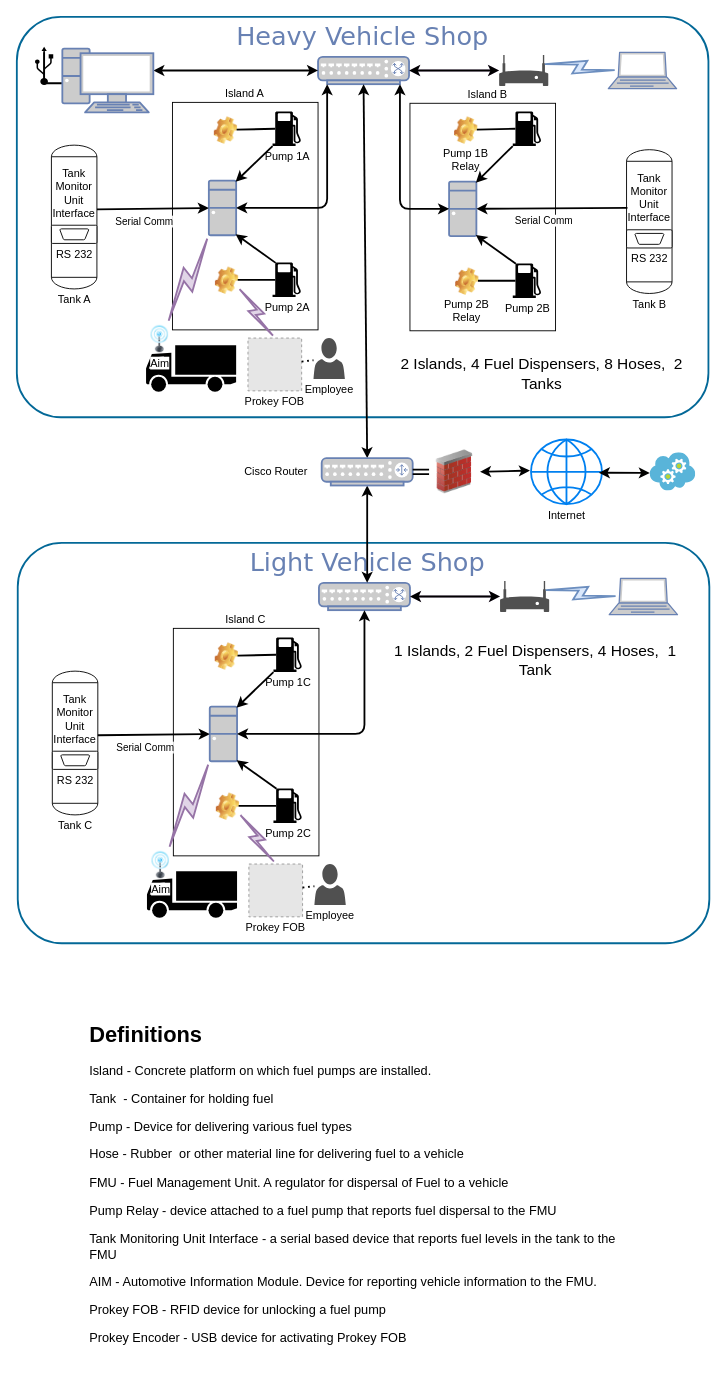
Some shapes in this 725 by 1387 pixel diagram are drawn without their labels. Grey dashed boxes stand in for pictures. Here are the shapes that lost their labels. From the top down, the centre of each, then its label:
At point 107,80: "PROKEE Encoder".
At point 224,129: "Pump 1A Relay".
At point 526,128: "Pump 1B".
At point 222,207: "FMU A".
At point 462,208: "FMU B".
At point 225,279: "Pump 2A Relay".
At point 454,471: "KCG Firewall".
At point 672,471: "FMLive".
At point 225,655: "Pump 1C Relay".
At point 223,733: "FMU C".
At point 226,805: "Pump 2C Relay".
